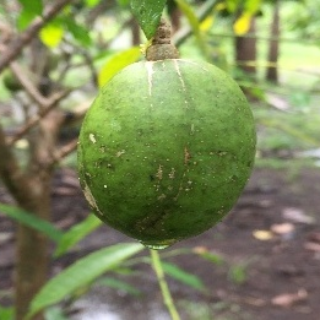coc: (78, 59, 257, 245)
